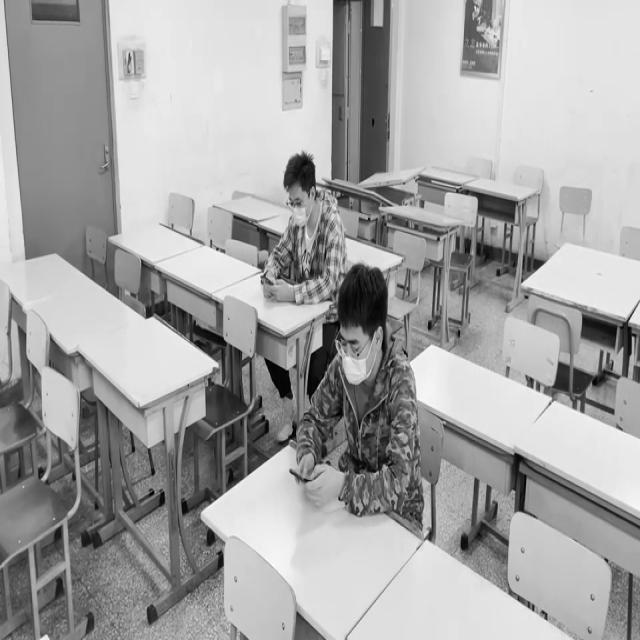phone: (296, 305, 417, 514), (263, 156, 337, 303)
